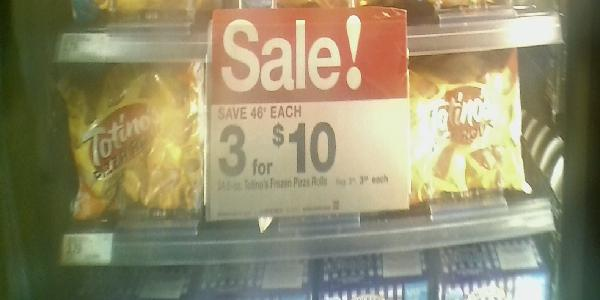icecream: (207, 61, 410, 233), (398, 38, 548, 211), (62, 63, 205, 240)
